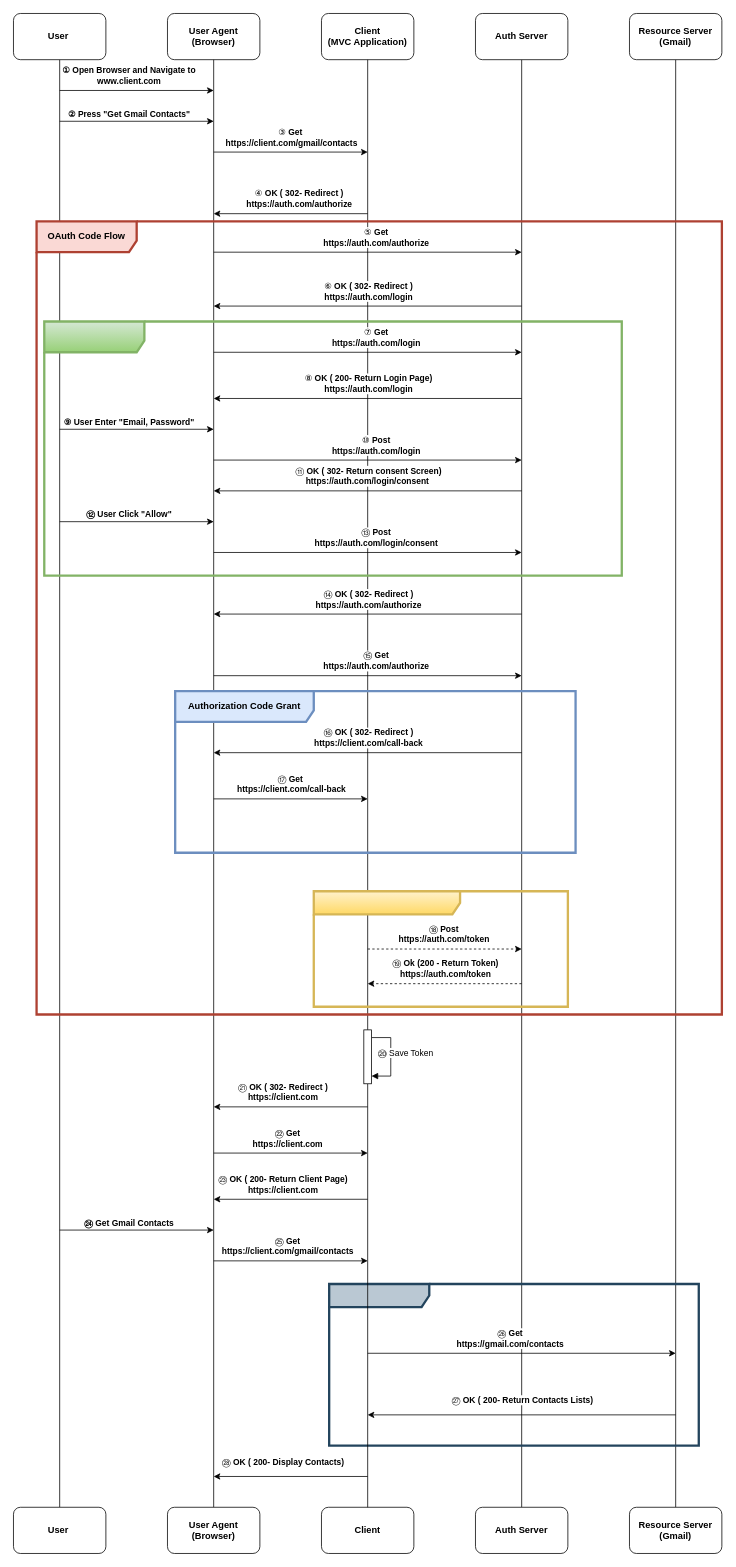
This 736x1567 diagram has some shape labels left out. Here are the shapes that lost their labels. From the top down, the centre of each, then its label:
(333,448): Authentication (OP)
(440,949): Exchange (code, code_verifier)
(514,1364): Using The Token
